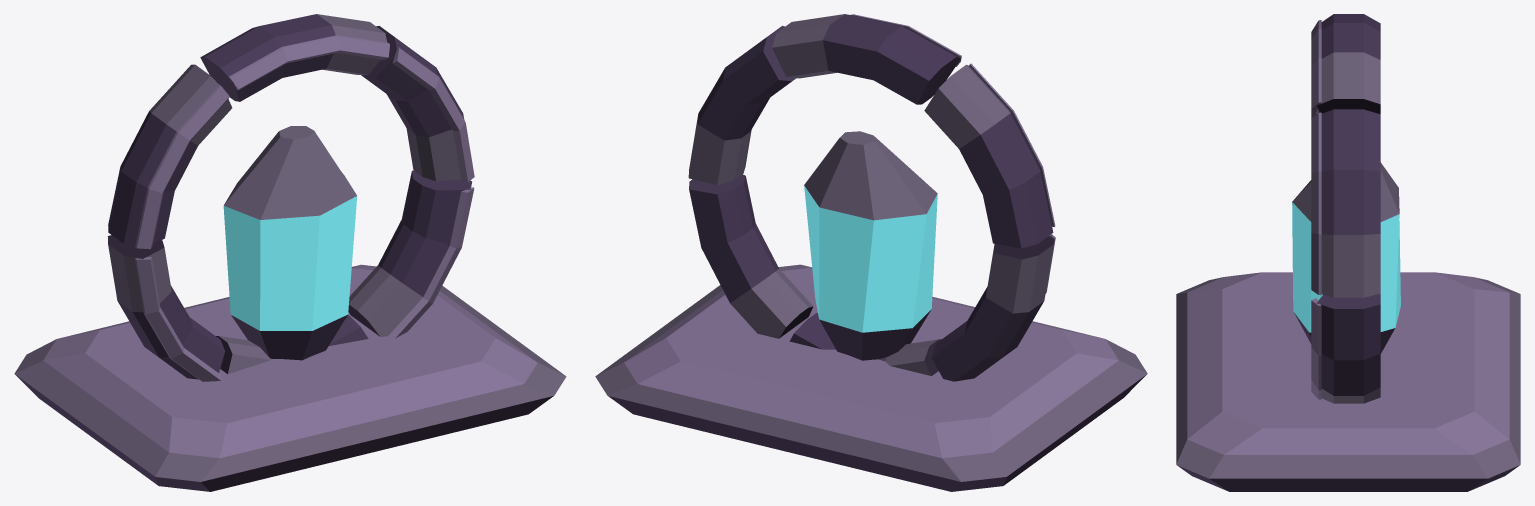
Rendered from ring-reactor.glb.
The picture shows the model from 3 angles, left to right: view 1: azimuth 30°, elevation 25°; view 2: azimuth 150°, elevation 25°; view 3: azimuth 270°, elevation 25°; orthographic projection.
Parts seen in each view (by area): view 1: ring-reactor; view 2: ring-reactor; view 3: ring-reactor.
Boxes of the visible parts, x1=… form: ring-reactor: x1=14, y1=14, x2=566, y2=491; ring-reactor: x1=595, y1=14, x2=1147, y2=491; ring-reactor: x1=1176, y1=14, x2=1520, y2=491.
Size of the model in its own units: 6 by 5.15 by 4.4.
